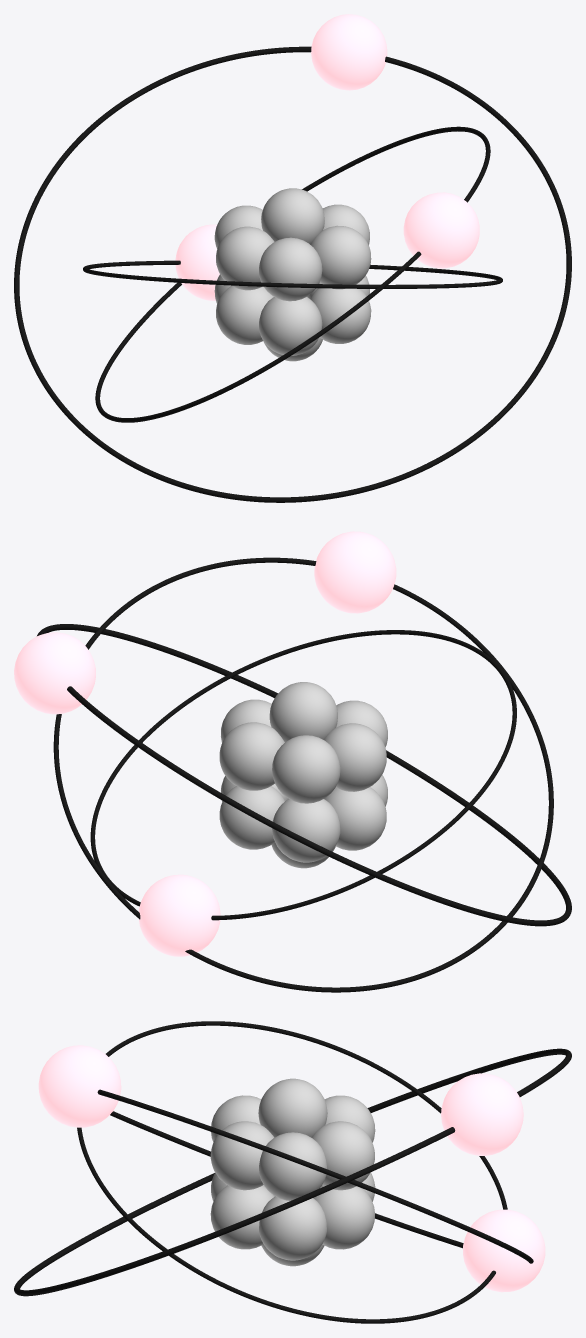
File: ProtonCore4.fbx
The picture shows the model from 3 angles, top to bottom: view 1: azimuth 30°, elevation 25°; view 2: azimuth 150°, elevation 25°; view 3: azimuth 270°, elevation 25°; orthographic projection. The views are drawn at different scales.
Parts seen in each view (by area): view 1: Sphere.002, OuterRing, Sphere, Sphere.001, MiddleRing, InnerRing, Sphere.003; view 2: Sphere.002, MiddleRing, OuterRing, Sphere.001, Sphere.003, Sphere, InnerRing; view 3: Sphere.002, OuterRing, Sphere, Sphere.001, Sphere.003, InnerRing, MiddleRing.
Part boxes in pixels (left/top/right/bottom): Sphere.002: left=214, top=188, right=371, bottom=361; OuterRing: left=14, top=46, right=571, bottom=502; Sphere: left=311, top=14, right=387, bottom=90; Sphere.001: left=403, top=192, right=479, bottom=268; MiddleRing: left=95, top=126, right=490, bottom=422; InnerRing: left=83, top=260, right=502, bottom=288; Sphere.003: left=175, top=224, right=219, bottom=300; Sphere.002: left=219, top=682, right=387, bottom=868; MiddleRing: left=53, top=557, right=553, bottom=992; OuterRing: left=37, top=624, right=571, bottom=926; Sphere.001: left=314, top=531, right=396, bottom=613; Sphere.003: left=139, top=874, right=220, bottom=956; Sphere: left=14, top=632, right=95, bottom=714; InnerRing: left=90, top=630, right=516, bottom=920; Sphere.002: left=210, top=1078, right=375, bottom=1266; OuterRing: left=14, top=1048, right=571, bottom=1296; Sphere: left=441, top=1073, right=523, bottom=1155; Sphere.001: left=38, top=1045, right=121, bottom=1127; Sphere.003: left=463, top=1209, right=545, bottom=1292; InnerRing: left=77, top=1021, right=507, bottom=1323; MiddleRing: left=97, top=1089, right=533, bottom=1263.
Bounding box in the file's own units: 60.15 × 35.4 × 58.07.
